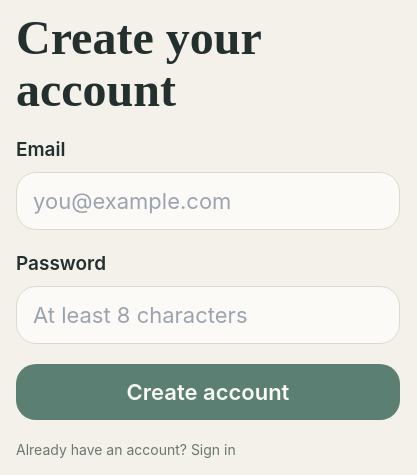
Test: AuthForm › signup does not sign in: it shows "Check your email" and never redirects
Type "sarah@example.com" into the field labelled "Email" at (208,201), box [16,172,400,230]
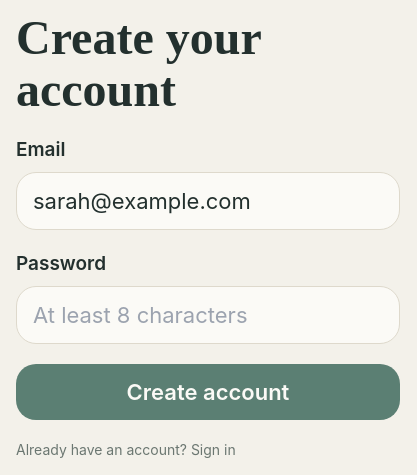
Type "longenough" into the password field labelled "Password" at (208,315), box [16,286,400,344]
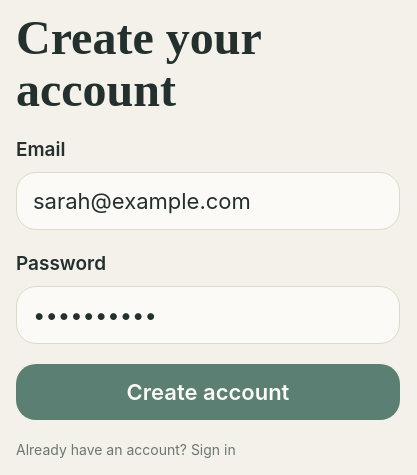
Click the button "Create account" at (208,392), box [16,364,400,420]
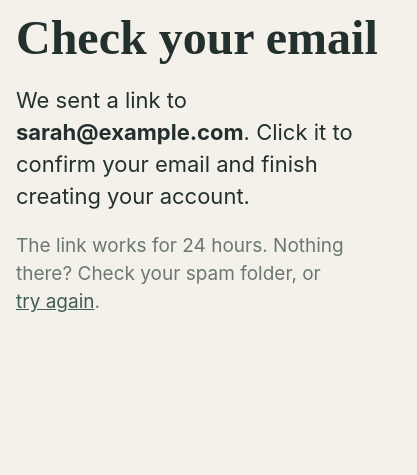
Now the heading "Check your email" is shown, box [16,12,400,64]
Now the text "sarah@example.com" is shown, box [16,119,244,145]
